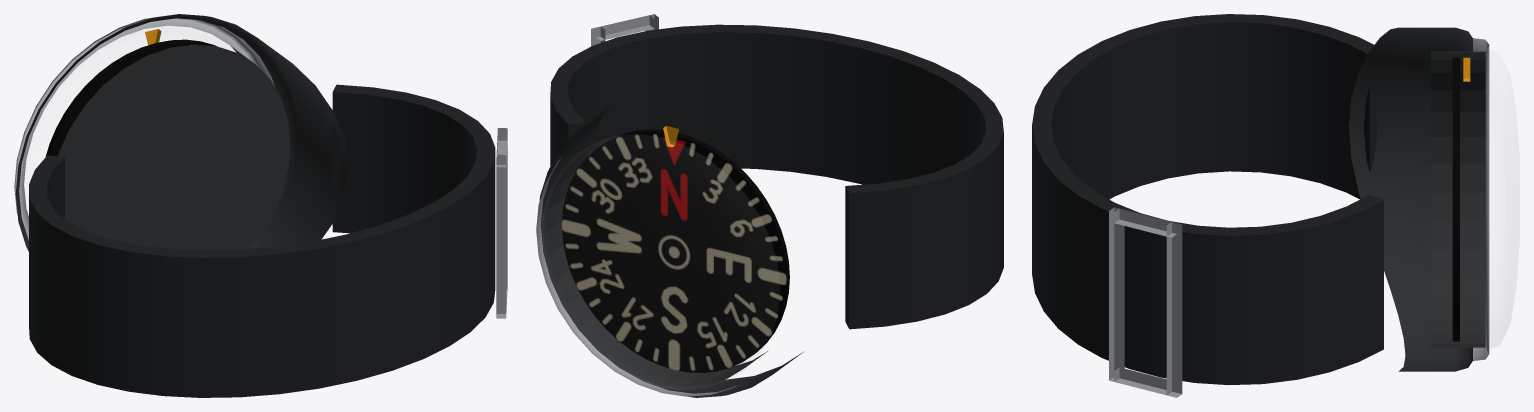
File: wrist_compass.glb
3 views of the same model, side by side, from view 1: azimuth 30°, elevation 25°; view 2: azimuth 150°, elevation 25°; view 3: azimuth 270°, elevation 25° (orthographic). The views are drawn at different scales.
Visible parts, largest first — view 1: Strap, Case, Card; view 2: Strap, Card, Case, Glass; view 3: Strap, Case, Glass, Card.
Part boxes in pixels (x1,y1,x2,y2): Strap: [29, 84, 507, 397]; Case: [14, 14, 348, 251]; Card: [45, 39, 215, 156]; Strap: [550, 14, 1003, 329]; Card: [562, 129, 789, 372]; Case: [536, 102, 804, 397]; Glass: [541, 209, 681, 389]; Strap: [1032, 14, 1383, 397]; Case: [1348, 27, 1489, 371]; Glass: [1490, 51, 1519, 348]; Card: [1452, 57, 1459, 341].
Size of the model in its own units: 0.071 by 0.046 by 0.0652.
Materials: 7 (1 with a texture image).
